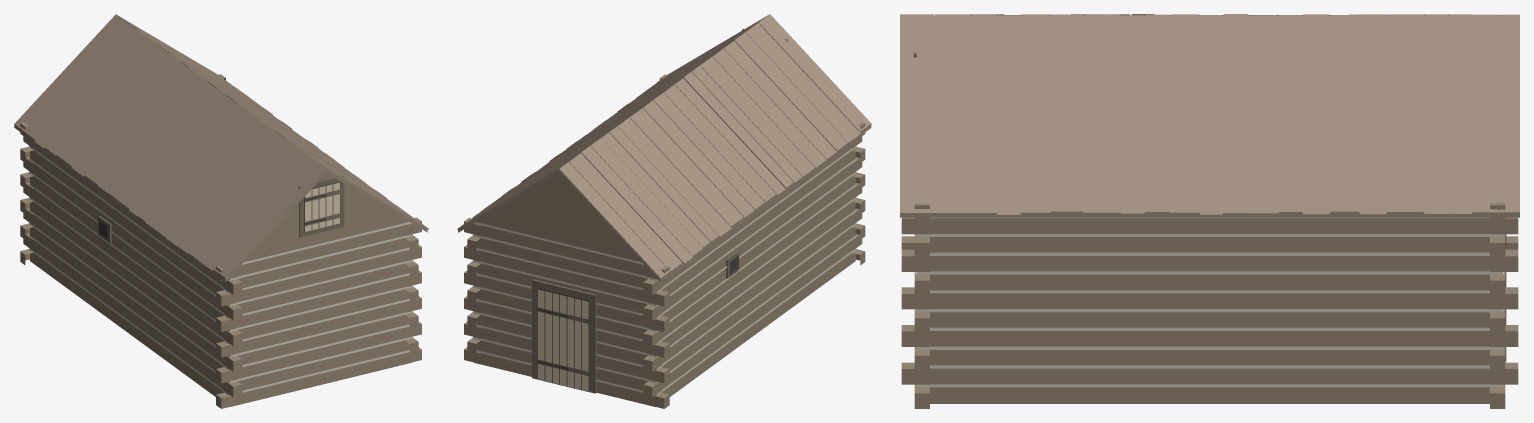
The model's file is recon_1835_blk_randolph_franklin_a1_07__inferred_1835.glb.
3 renders of one model, left to right at view 1: azimuth 30°, elevation 25°; view 2: azimuth 150°, elevation 25°; view 3: azimuth 270°, elevation 25°, orthographic. The views are drawn at different scales.
Visible parts, largest first — view 1: recon_1835_blk_randolph_franklin_a1_07__inferred_1835; view 2: recon_1835_blk_randolph_franklin_a1_07__inferred_1835; view 3: recon_1835_blk_randolph_franklin_a1_07__inferred_1835.
Part boxes in pixels (<box>): recon_1835_blk_randolph_franklin_a1_07__inferred_1835: <box>14,14,428,408</box>; recon_1835_blk_randolph_franklin_a1_07__inferred_1835: <box>457,14,871,408</box>; recon_1835_blk_randolph_franklin_a1_07__inferred_1835: <box>900,14,1519,408</box>.
Bounding box in the file's own units: 5.42 × 5.55 × 9.6.
